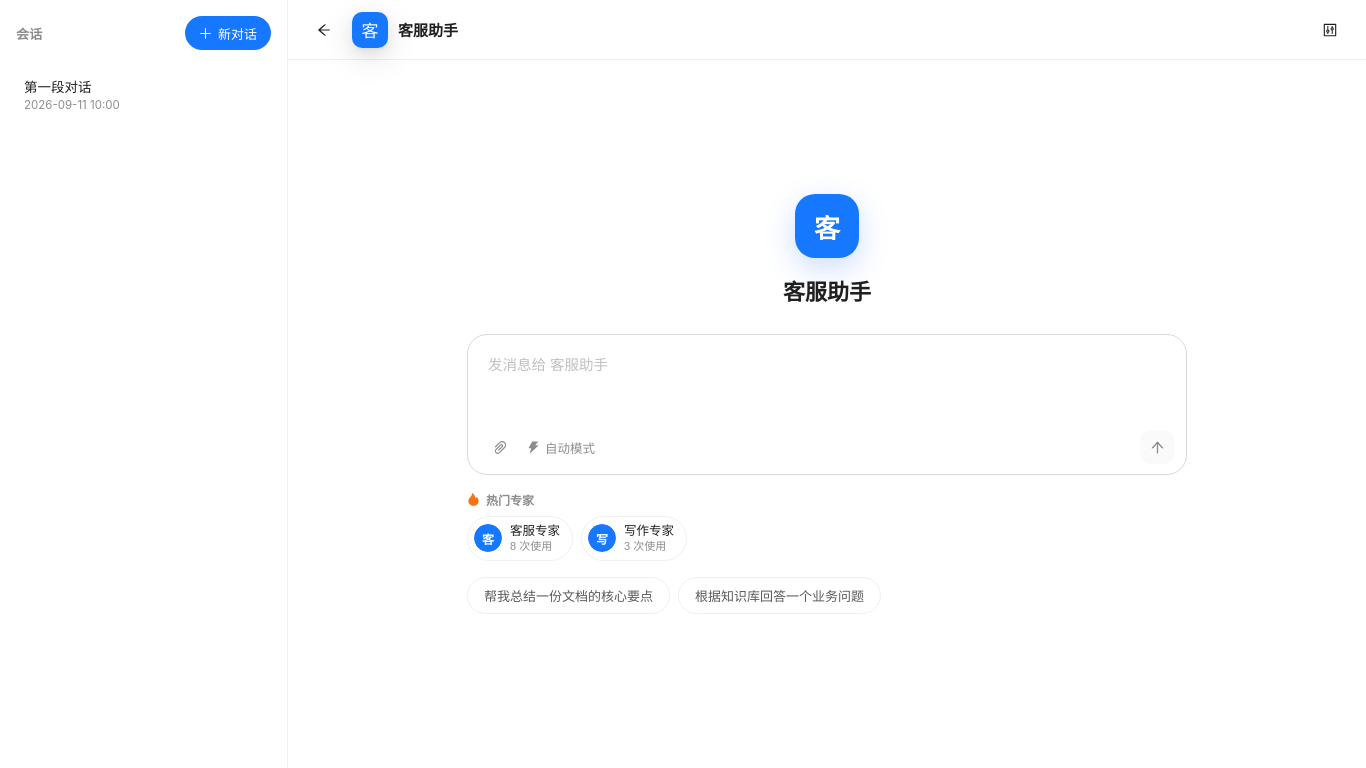
AppChat（Agent 应用对话页） › 上下文用量环形指示：会话有用量时输入卡左下角显示环与 token 统计，无会话不显示
The width and height of the screenshot is (1366, 768).
Click the text "第一段对话" at (58, 86), box [24, 76, 92, 96]
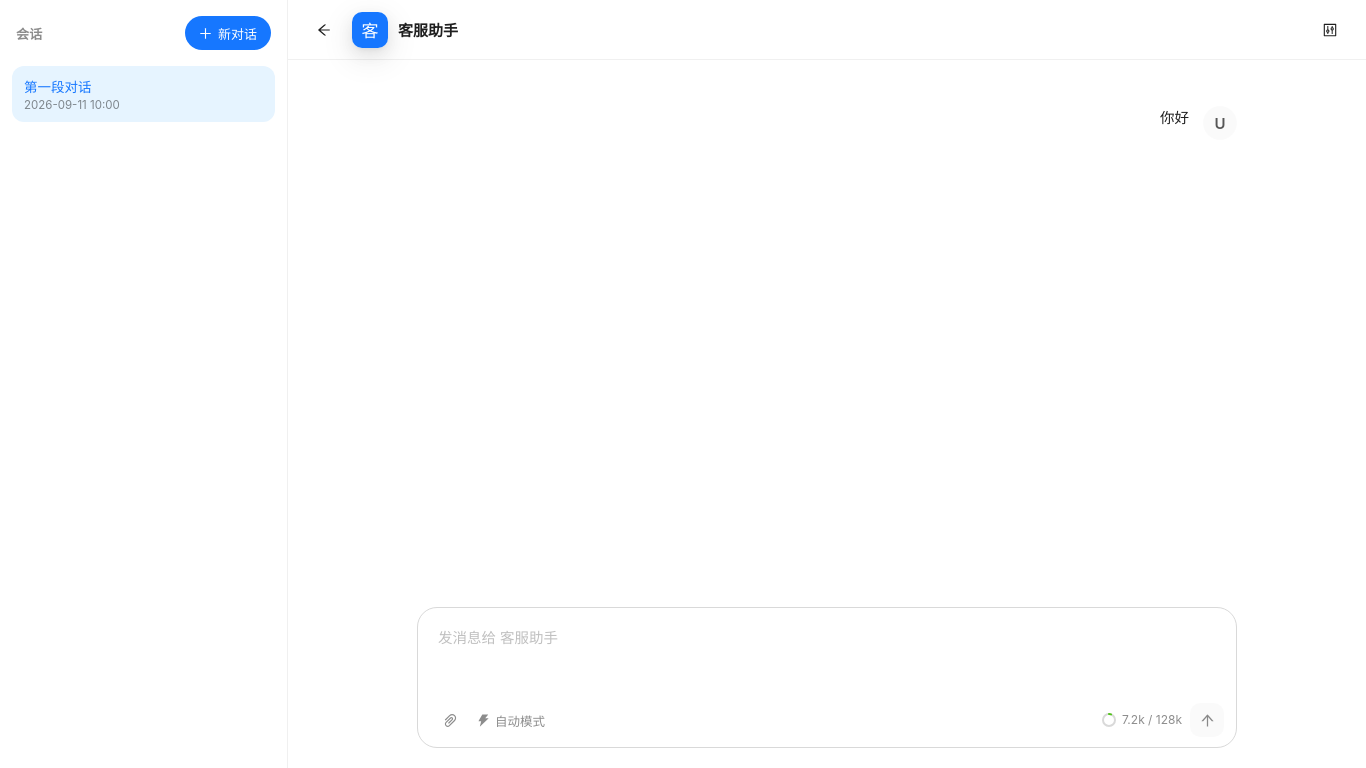
Check: the element with class "moai-chat__context-ring-bar" is shown, box [1103, 714, 1115, 726]
Check: the element with class "moai-chat__context-usage" is shown
Check: the text "7.2k / 128k" is shown, box [1122, 714, 1182, 726]
Hover over the element with class "moai-chat__context-usage" at (1142, 720), box [1102, 713, 1182, 727]
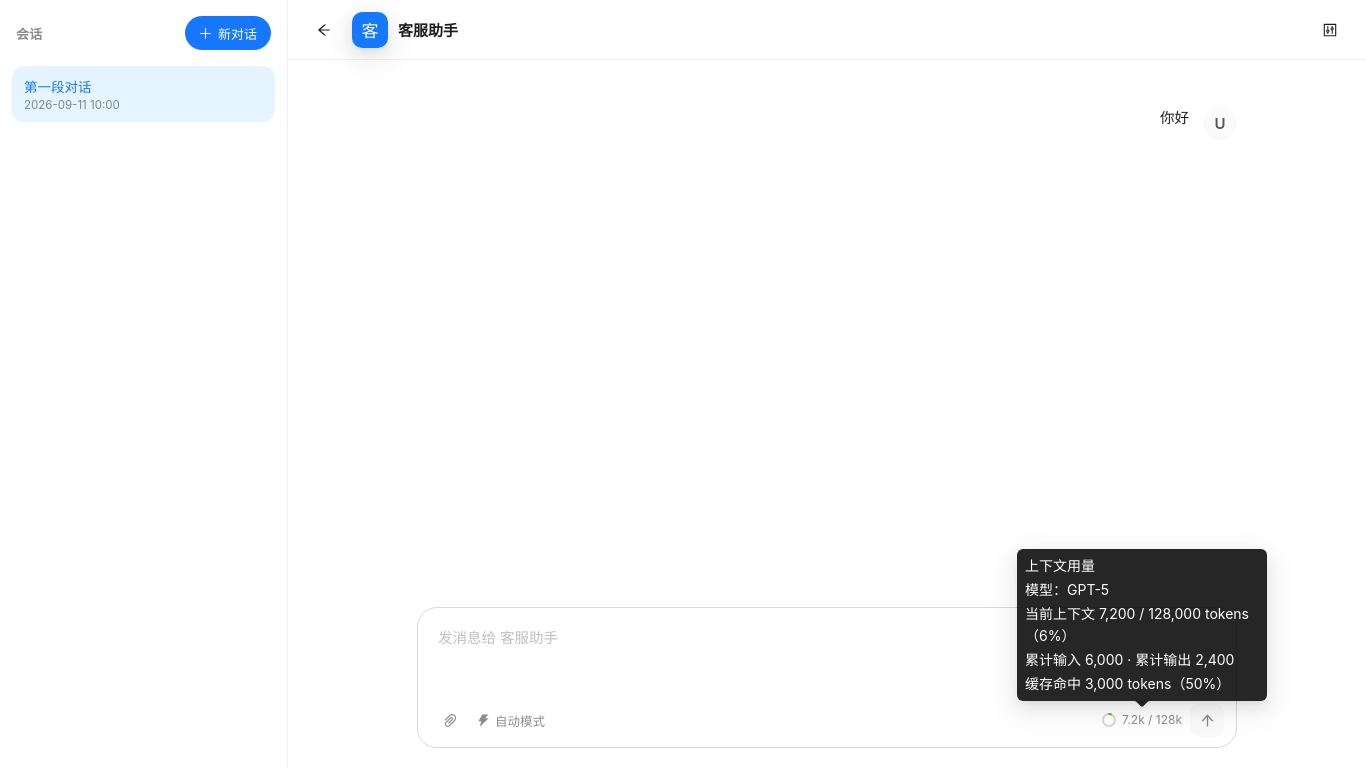
Check: the text "上下文用量" is shown, box [1025, 557, 1095, 574]
Check: the text "模型：GPT-5" is shown, box [1025, 581, 1109, 598]
Check: the text "当前上下文 7,200 / 128,000 tokens（6%）" is shown, box [1025, 603, 1259, 647]
